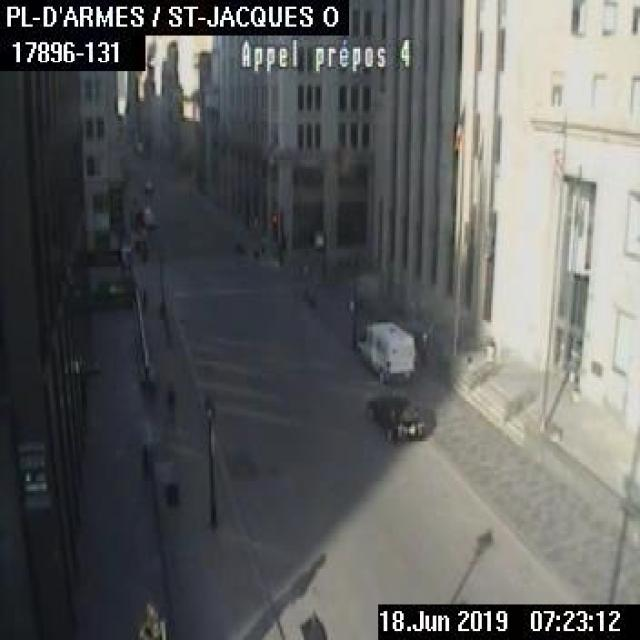vehicle: (356, 321, 414, 382), (365, 391, 424, 440)
